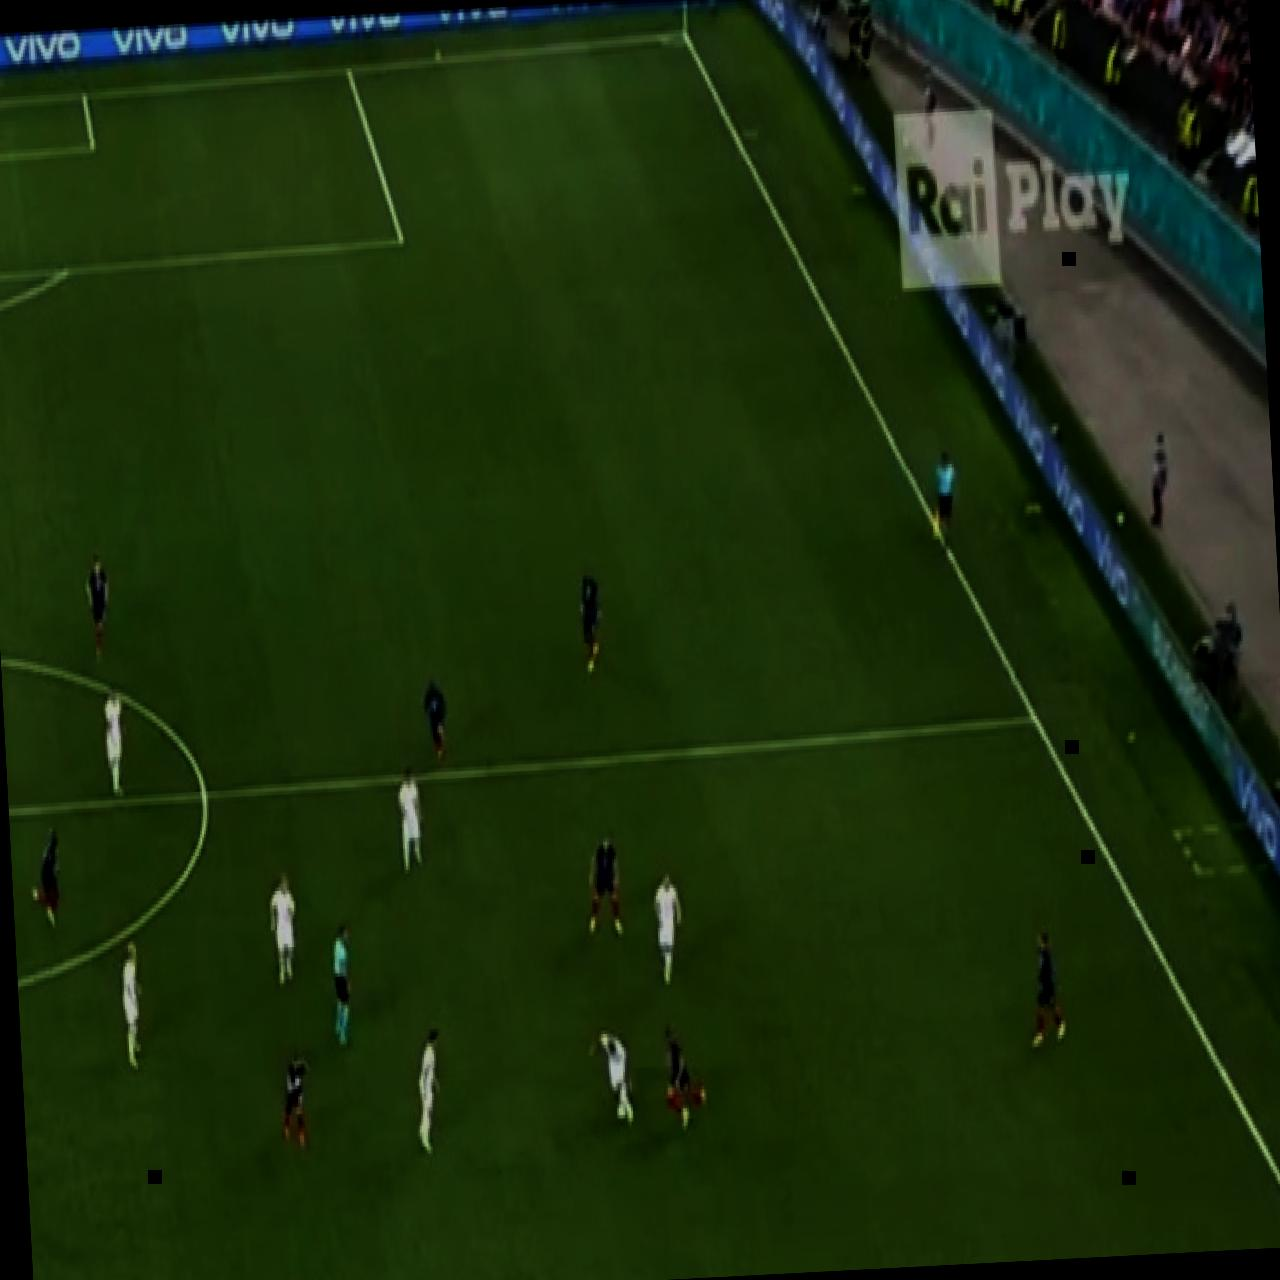football: (580, 1020, 638, 1142), (656, 1020, 711, 1144), (1017, 926, 1069, 1056), (410, 1022, 450, 1168), (271, 1034, 318, 1158), (645, 864, 691, 989), (112, 928, 149, 1078), (324, 914, 362, 1056), (262, 861, 303, 992), (386, 759, 430, 879), (582, 830, 628, 944), (570, 555, 610, 686), (77, 539, 118, 664), (926, 441, 966, 569), (24, 823, 67, 937), (95, 678, 132, 806), (418, 671, 453, 768)
